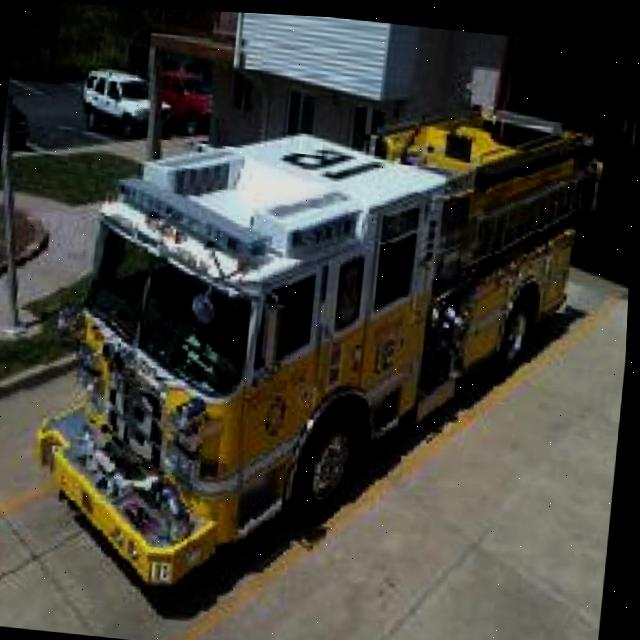emergency: (24, 52, 619, 626)
